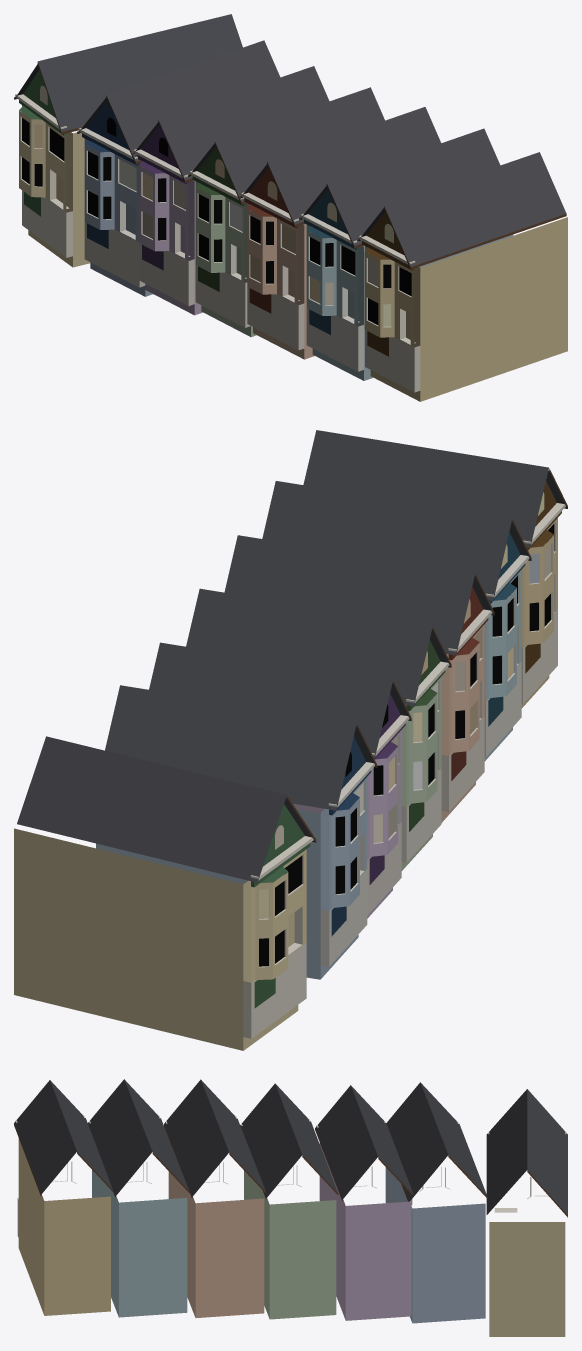
The model's file is paintedLadies_lod1.glb.
The picture shows the model from 3 angles, top to bottom: view 1: azimuth 30°, elevation 25°; view 2: azimuth 150°, elevation 25°; view 3: azimuth 270°, elevation 25°; orthographic projection. The views are drawn at different scales.
Parts seen in each view (by area): view 1: L1_roof, L1_clap, L1_stucco, L1_win, L1_paint, L1_wood; view 2: L1_roof, L1_stucco, L1_clap, L1_paint, L1_win, L1_wood; view 3: L1_stucco, L1_roof, L1_wood, L1_paint.
Boxes of the visible parts, left/top/right/bottom form: L1_roof: left=14, top=14, right=566, bottom=266; L1_clap: left=19, top=69, right=420, bottom=392; L1_stucco: left=28, top=132, right=567, bottom=401; L1_win: left=22, top=85, right=411, bottom=326; L1_paint: left=15, top=94, right=415, bottom=344; L1_wood: left=14, top=62, right=566, bottom=356; L1_roof: left=17, top=430, right=567, bottom=882; L1_stucco: left=14, top=568, right=549, bottom=1050; L1_clap: left=243, top=481, right=557, bottom=1038; L1_paint: left=250, top=503, right=565, bottom=967; L1_win: left=259, top=492, right=554, bottom=966; L1_wood: left=254, top=468, right=567, bottom=1008; L1_stucco: left=18, top=1138, right=565, bottom=1336; L1_roof: left=14, top=1079, right=567, bottom=1214; L1_wood: left=14, top=1124, right=567, bottom=1217; L1_paint: left=15, top=1115, right=566, bottom=1212.
Bounding box in the file's own units: 23.39 × 20.97 × 51.97.
